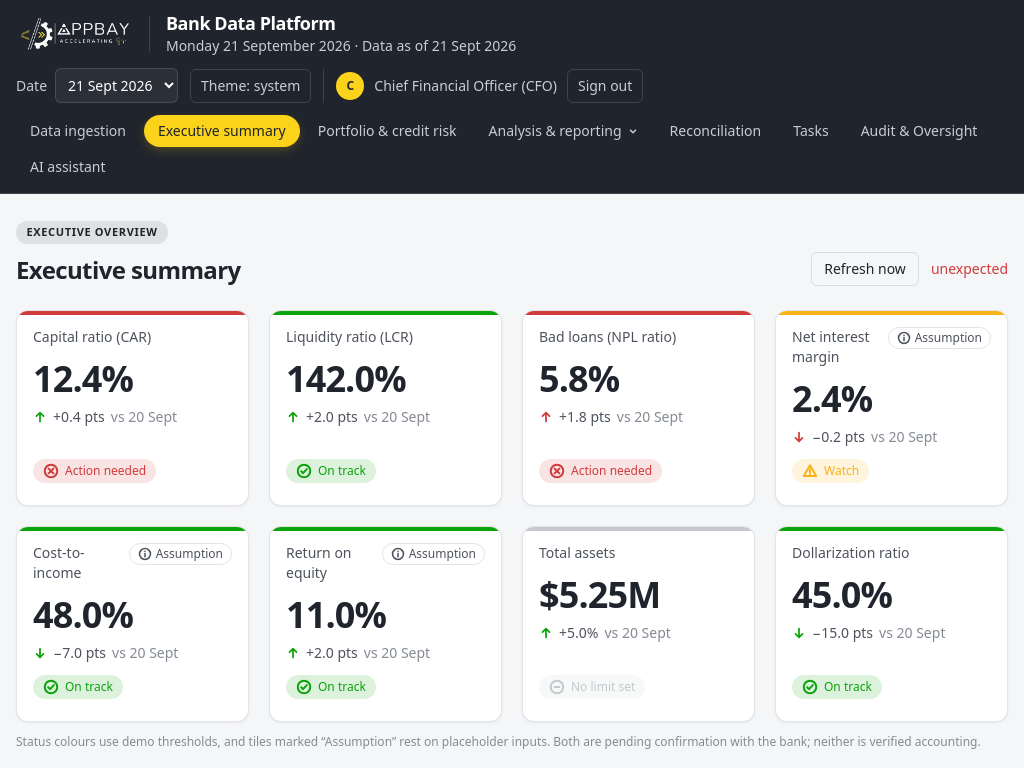
Test: sign in › keeps the sign-in to this tab, and never acts as someone else if it changes underneath
expect the list named "Key indicators" is shown: met, box [16,310,1008,722]
Click the link "Portfolio & credit risk" at (387, 130), box [318,121,457,140]
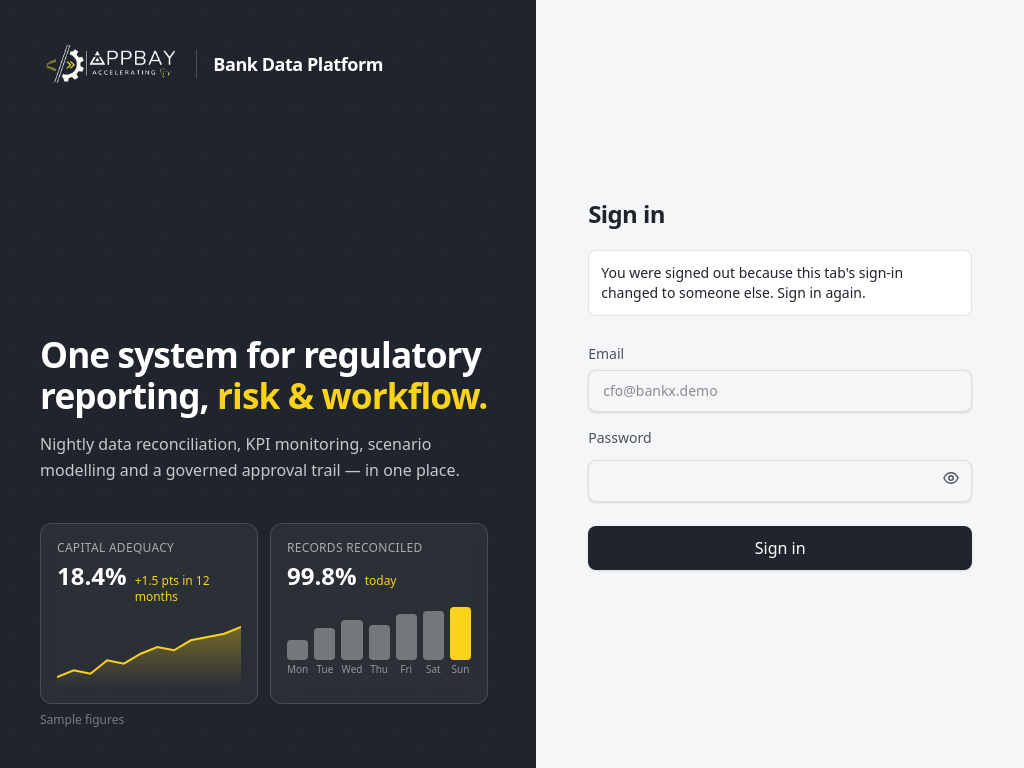
expect the text "signed out because this tab's sign-in changed to someone else" is shown: met, box [601,263,903,302]
